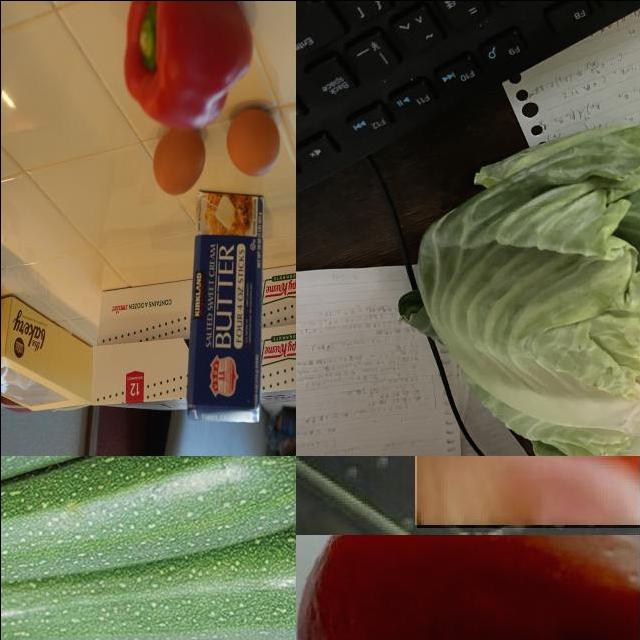bell_pepper: (129, 1, 268, 111)
cabbage: (411, 113, 640, 456)
egg: (224, 103, 283, 181), (149, 129, 203, 197)
tomato: (418, 456, 640, 528)
zucchini: (1, 456, 296, 593), (1, 456, 296, 550), (1, 570, 296, 640)
